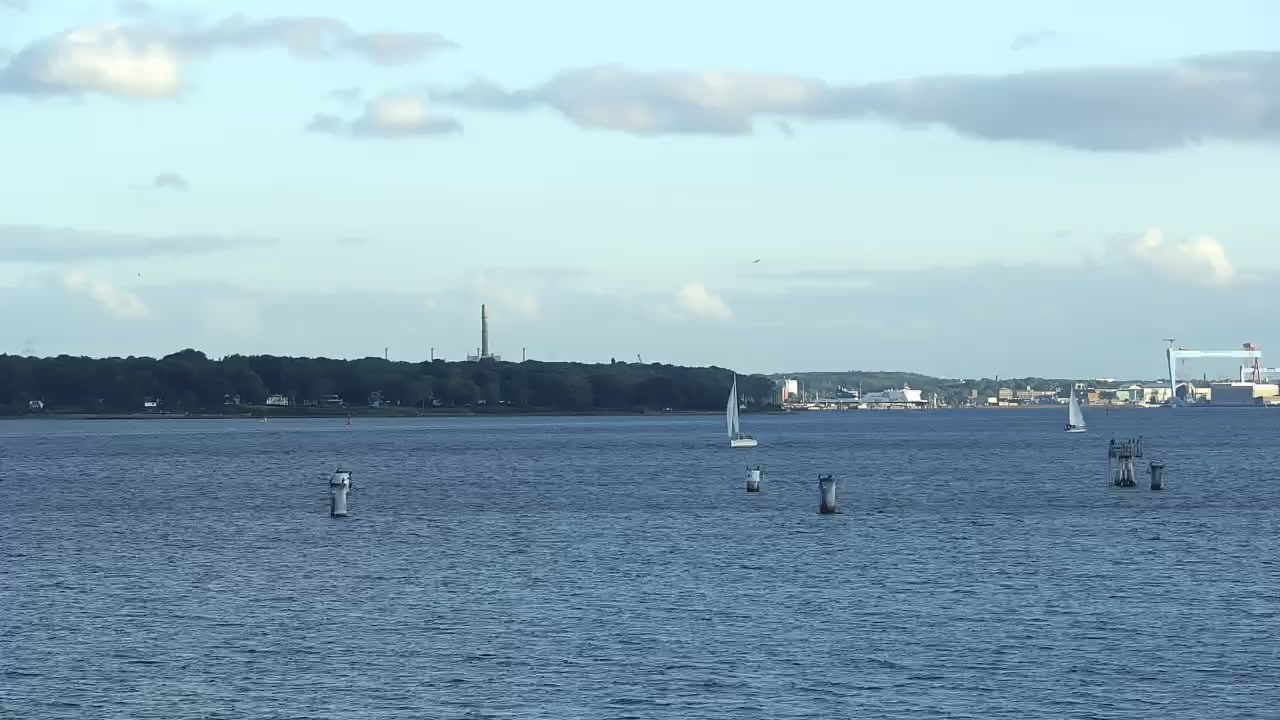sea: (810, 382, 929, 409), (724, 371, 758, 449), (1063, 383, 1086, 433)
